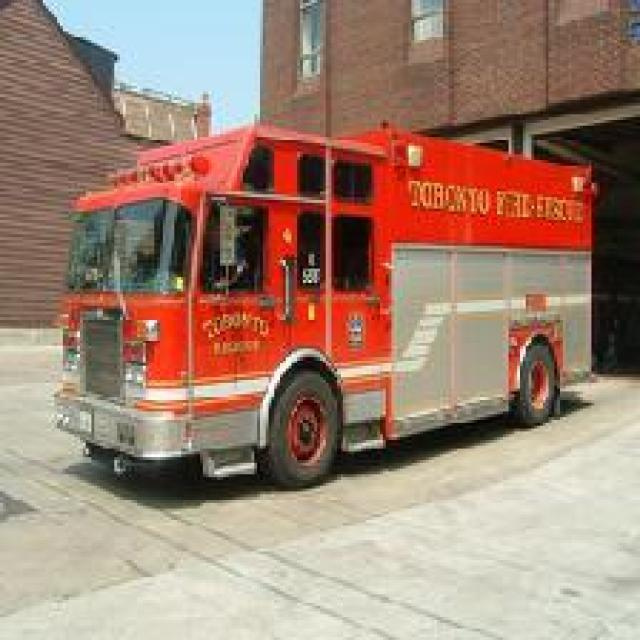emergency: (48, 114, 600, 490)
